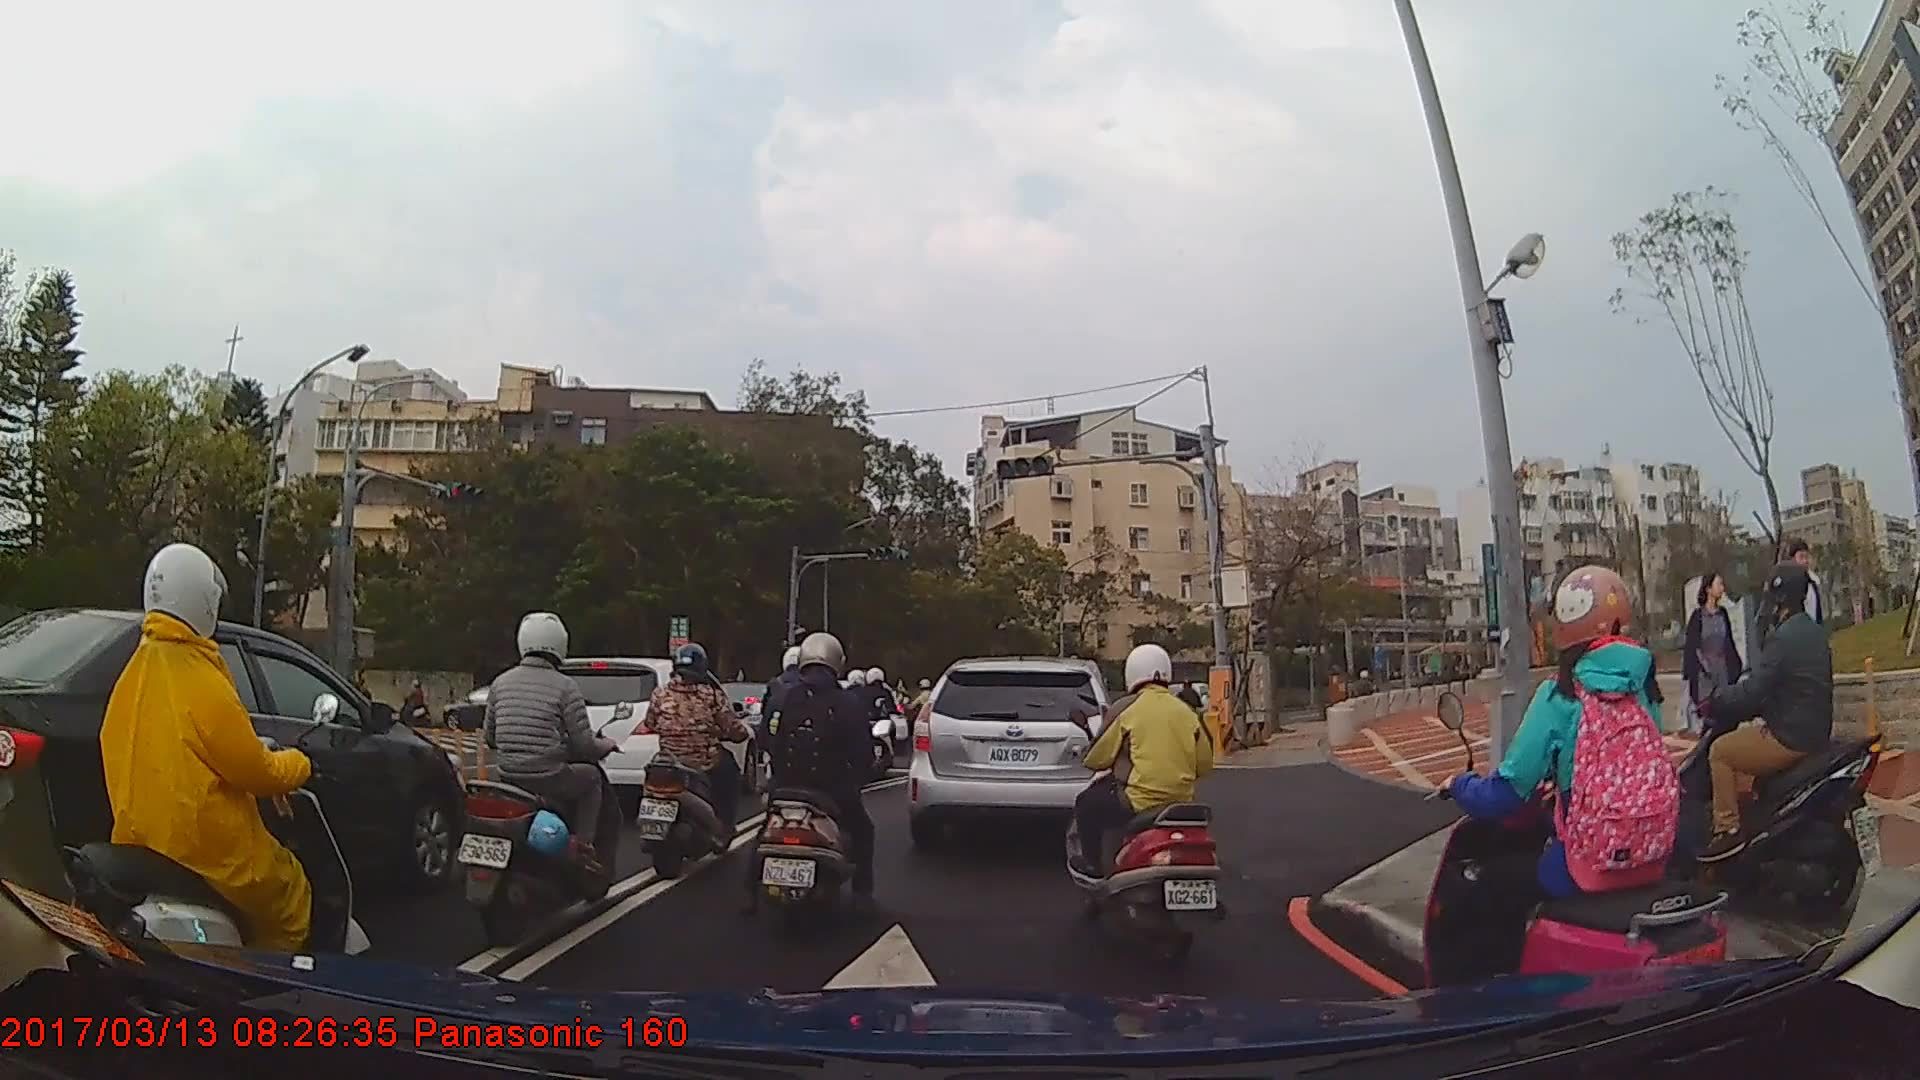pedestrian: (1684, 577, 1741, 796)
rider: (1414, 565, 1744, 1039), (62, 542, 371, 1021), (1671, 559, 1863, 914), (458, 607, 619, 952), (1064, 642, 1230, 964), (753, 634, 889, 942), (635, 642, 758, 878), (905, 676, 939, 746), (1175, 676, 1207, 748)
vehicle: (0, 606, 467, 932), (902, 657, 1130, 846), (520, 656, 757, 817), (442, 685, 546, 733)
